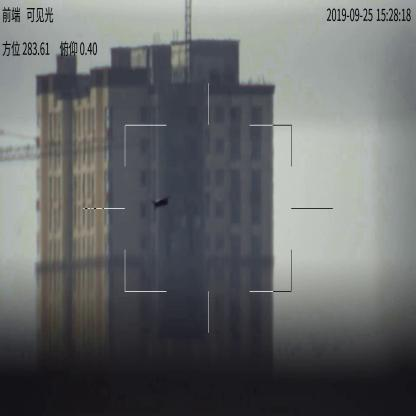uav: (152, 195, 168, 208)
